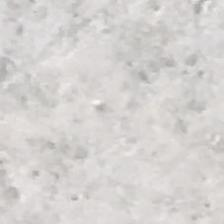Non_Crack: (45, 32, 176, 182)
